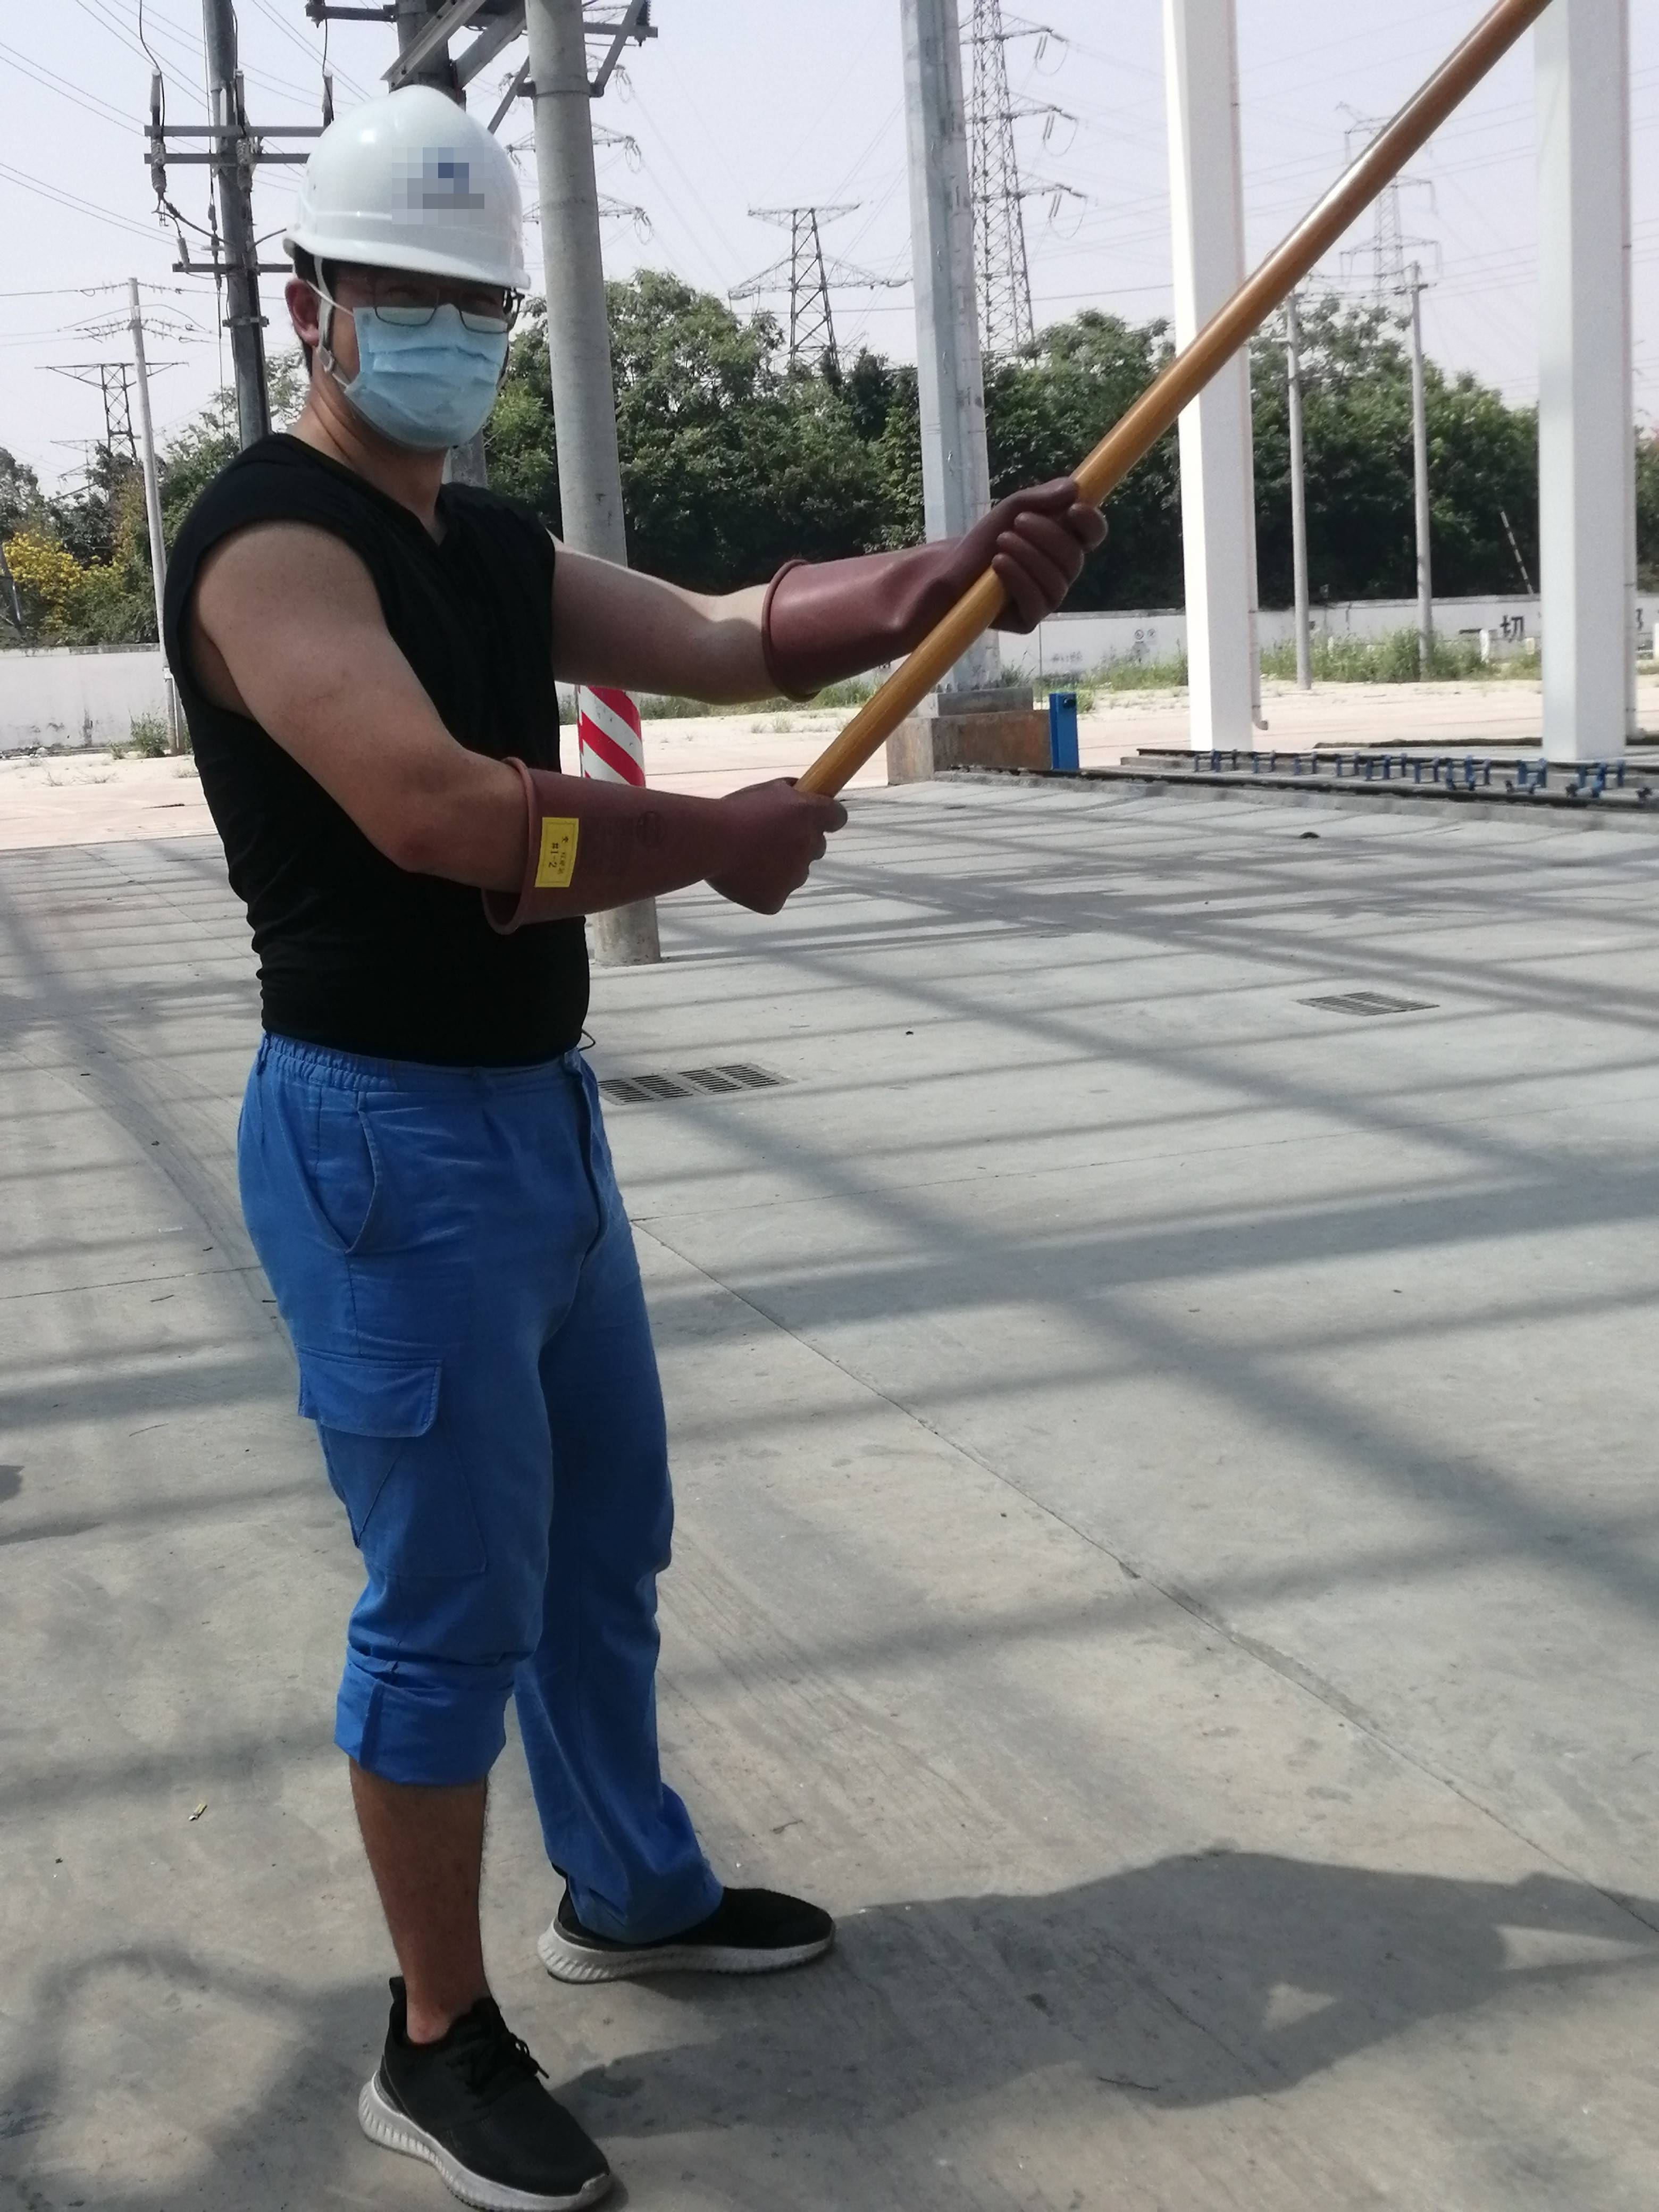downsuit: (225, 1068, 723, 1951)
upcloth: (178, 441, 573, 1047)
wrongbottom: (336, 1710, 518, 2052)
